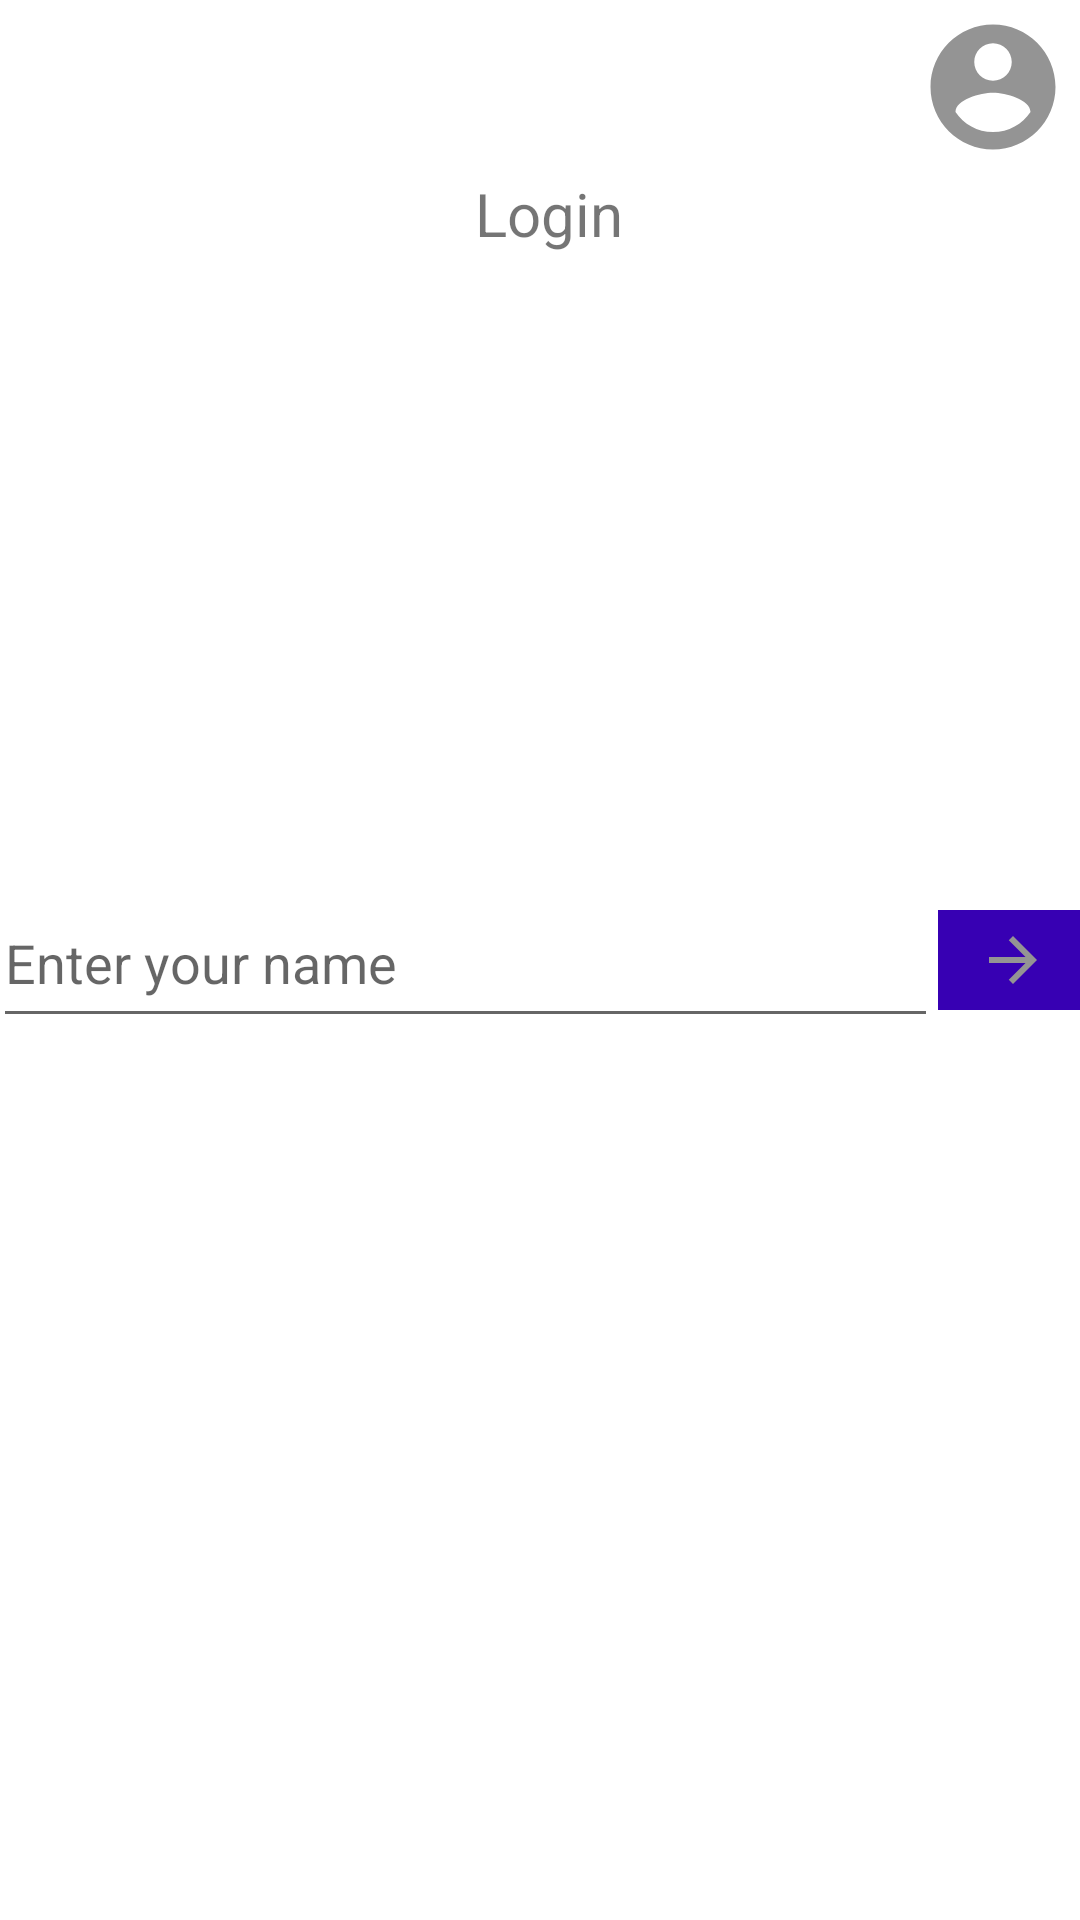

Icon click points for this 1080 x 1920 phone screenshot, format (x,y):
account circle: (993,87)
arrow forward: (1009,960)
